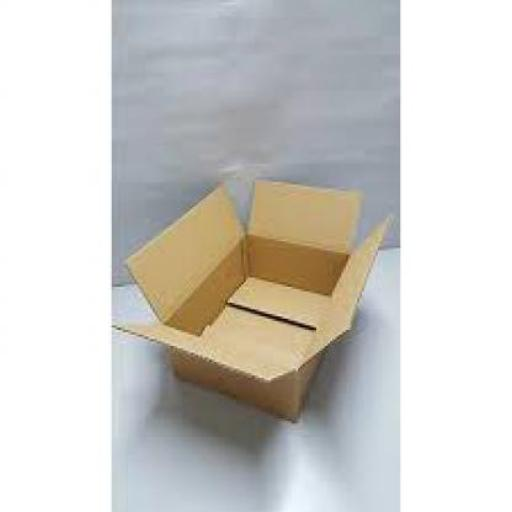cardboard: (112, 178, 390, 424)
